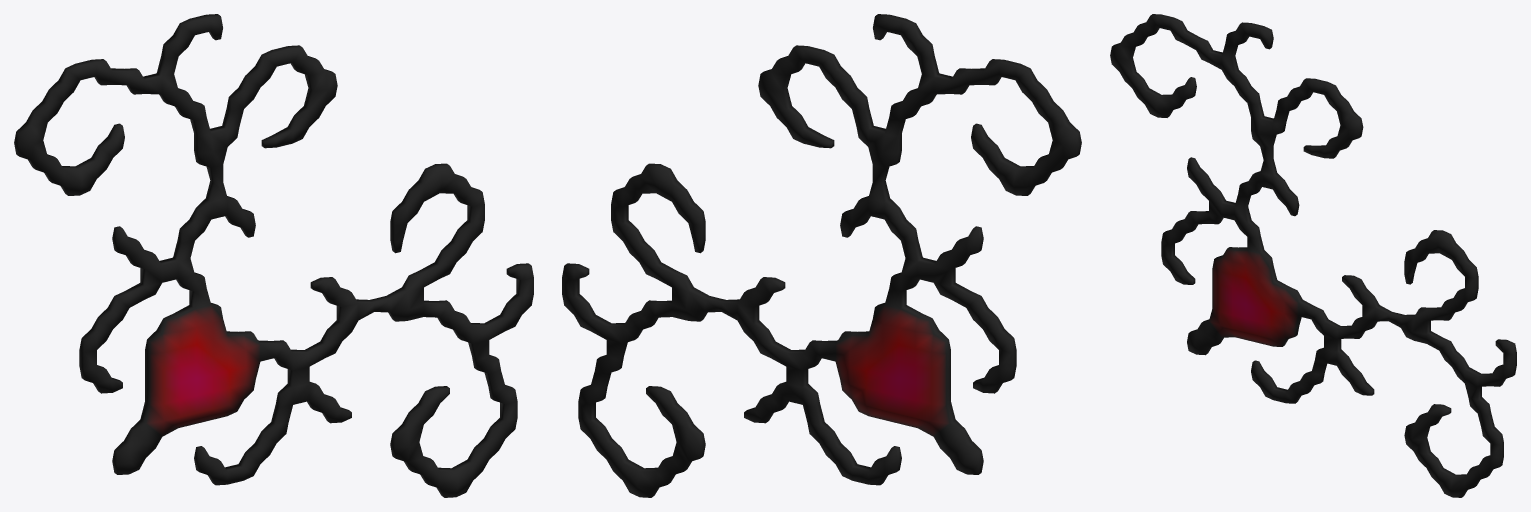
3 views of the same model, side by side, from view 1: azimuth 30°, elevation 25°; view 2: azimuth 150°, elevation 25°; view 3: azimuth 330°, elevation 25° (orthographic). The views are drawn at different scales.
Bounding box in the file's own units: 1.58 × 1.57 × 0.05.
